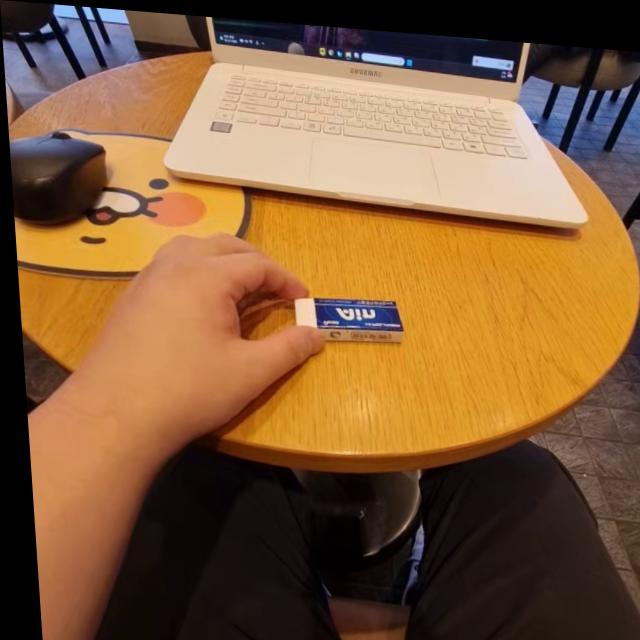grab_eraser: (79, 214, 429, 465)
mouse: (6, 123, 120, 238)
